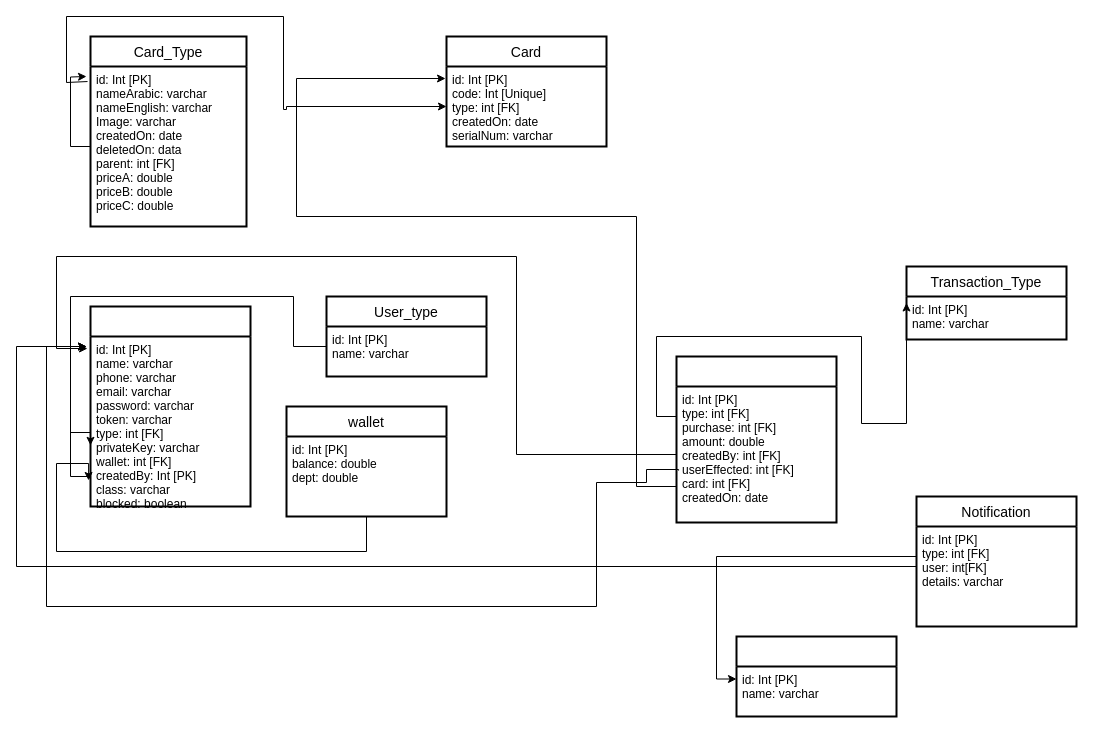
The diagram is 1093 pixels wide and 733 high, and some of its shapes have lost their labels. Here are the shapes that lost their labels. From the top down, the box of each, then its label:
(89, 305, 251, 507): User
(675, 355, 837, 523): Transaction
(735, 635, 897, 717): Notification_types
